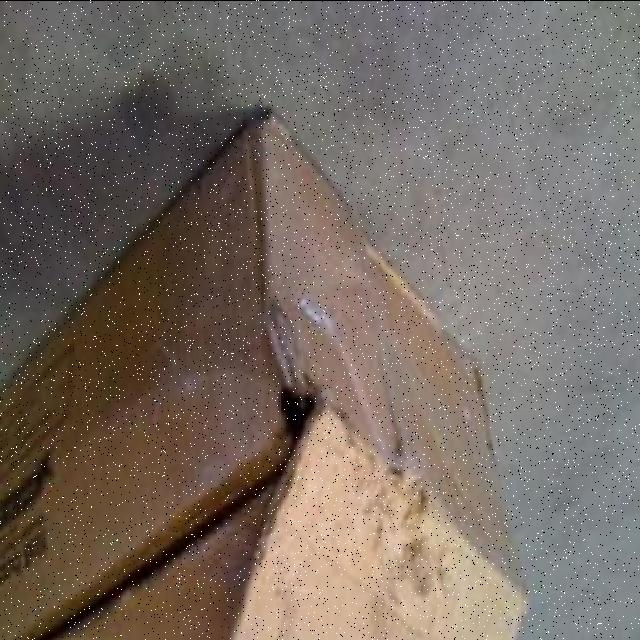defect: (2, 107, 536, 636)
